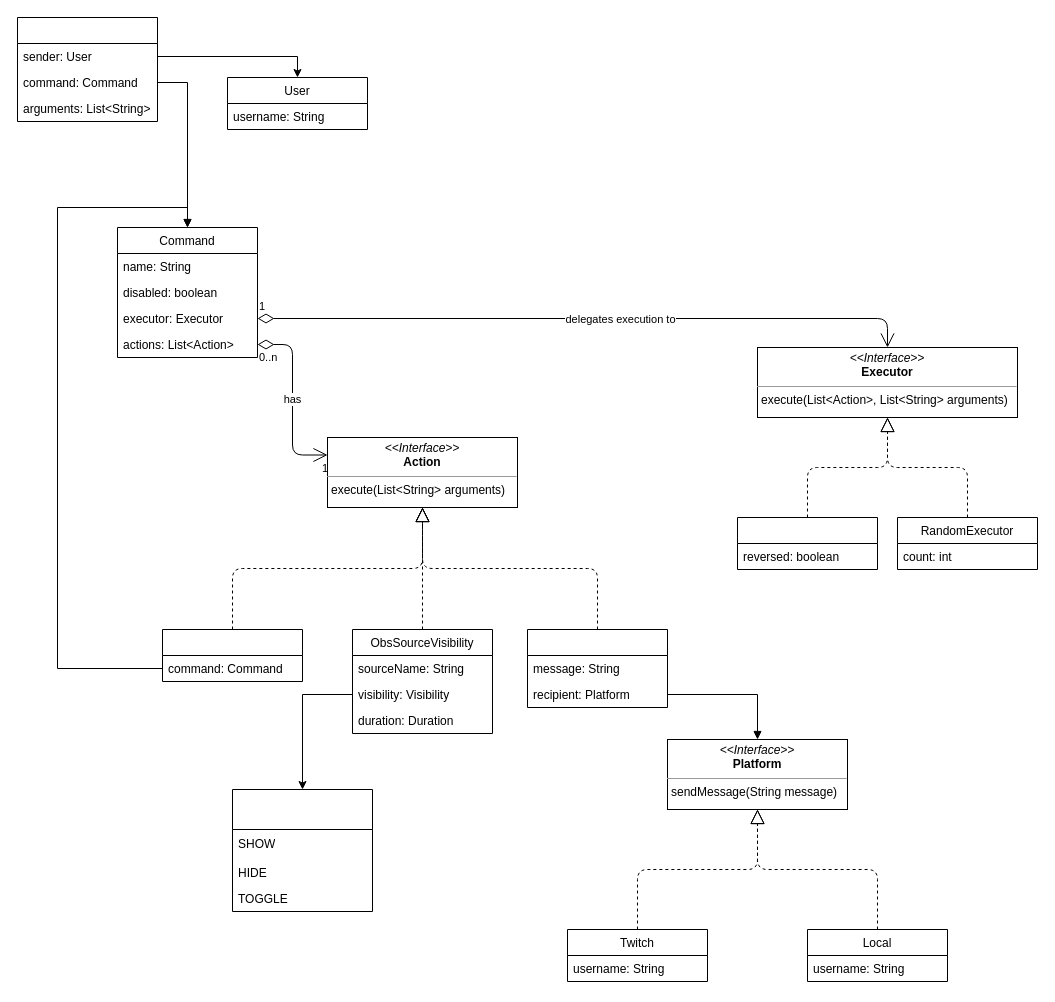
Image size: 1055x1002. Some labels were removed from this diagram. The box of each missing label's shape, as (x1, y1, x2, y2) in pixels:
<<enumeration>> Visibility: (232, 788, 372, 912)
CommandRequest: (16, 16, 158, 122)
ExcecuteCommand: (162, 628, 302, 682)
OrderedExecutor: (736, 516, 878, 570)
SendMessage: (526, 628, 668, 708)
